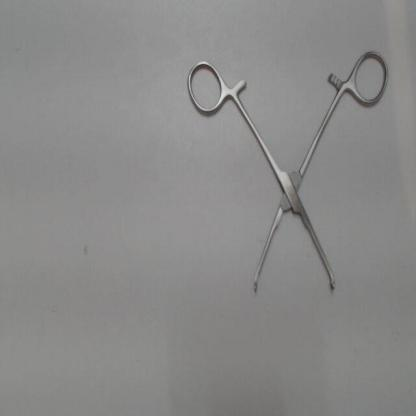Allis Tissue Forceps: (180, 42, 396, 303)
